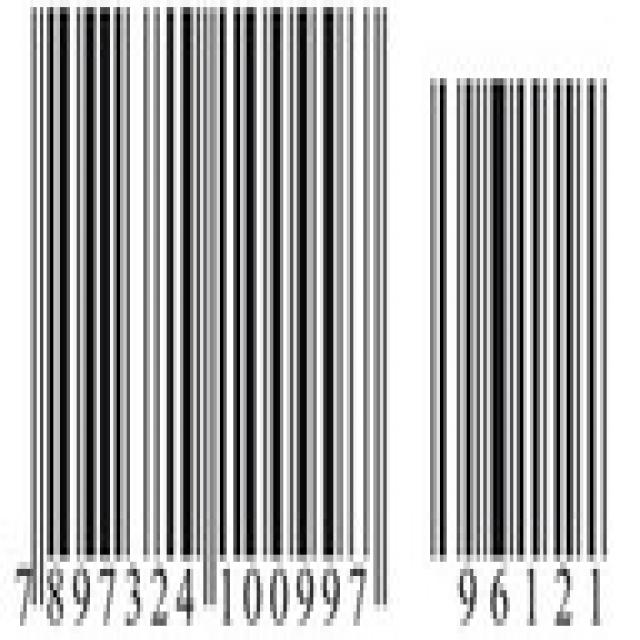Barkod: (20, 0, 617, 633)
